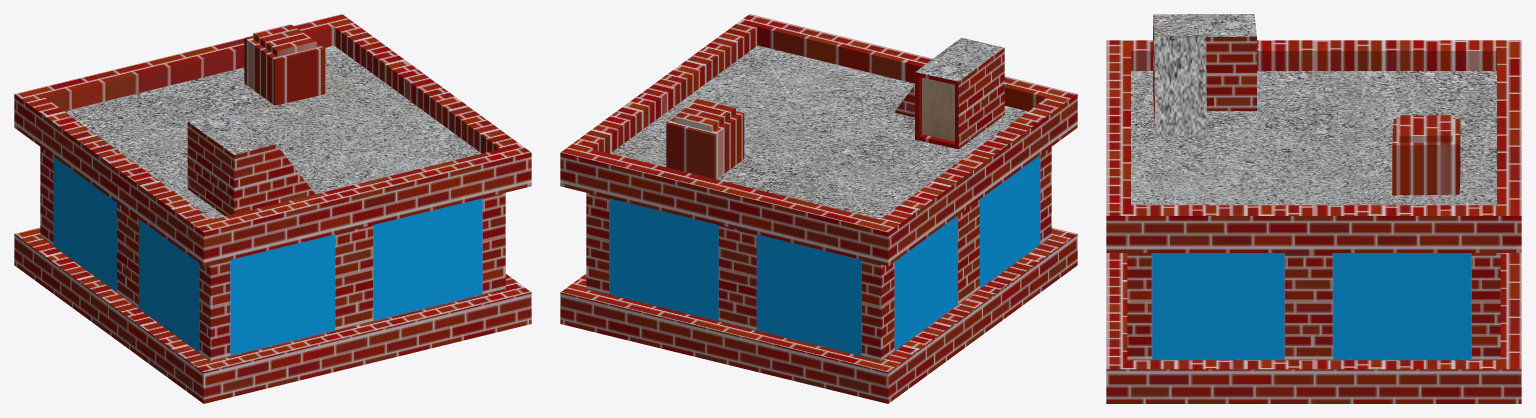
The model's file is buildingTop.fbx.
The picture shows the model from 3 angles, left to right: view 1: azimuth 30°, elevation 25°; view 2: azimuth 150°, elevation 25°; view 3: azimuth 270°, elevation 25°; orthographic projection. The views are drawn at different scales.
Parts seen in each view (by area): view 1: Top; view 2: Top; view 3: Top.
Boxes of the visible parts, <box> form: Top: <box>14,14,531,403</box>; Top: <box>560,14,1077,403</box>; Top: <box>1106,14,1521,403</box>.
Size of the model in its own units: 20 by 12.87 by 20.
3 materials, 3 textured.
